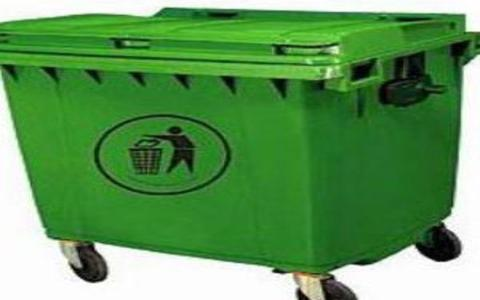Proper garbage: (1, 3, 479, 299)
